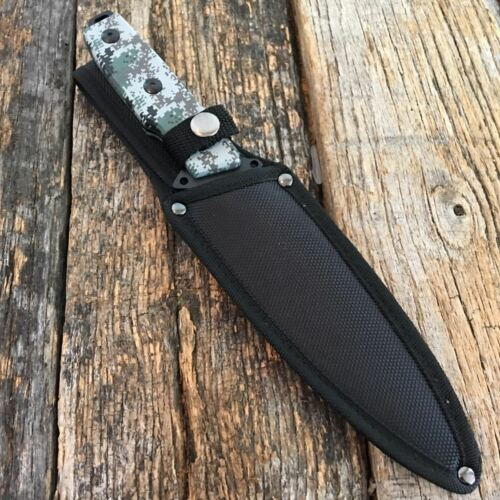knief: (80, 13, 483, 482)
